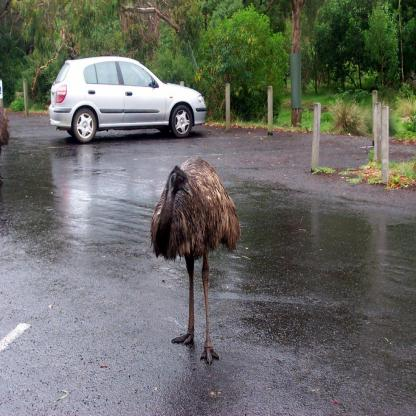Car: (52, 54, 207, 142)
